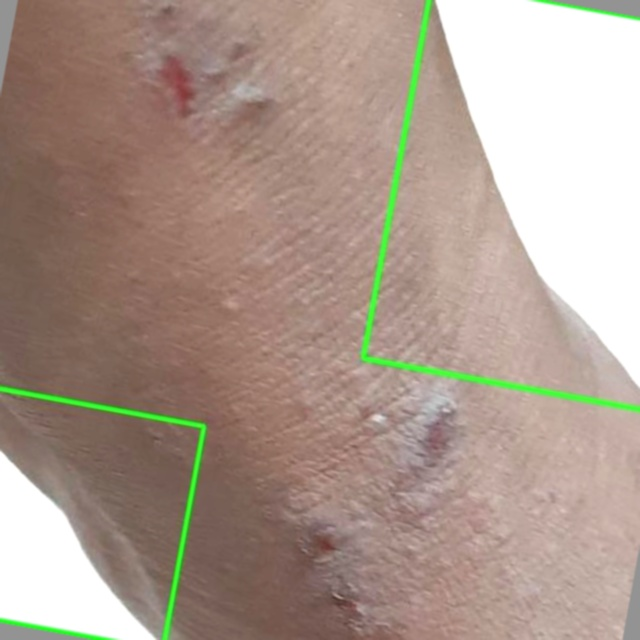Atopic Dermatitis: (363, 0, 639, 408), (0, 390, 203, 639)
